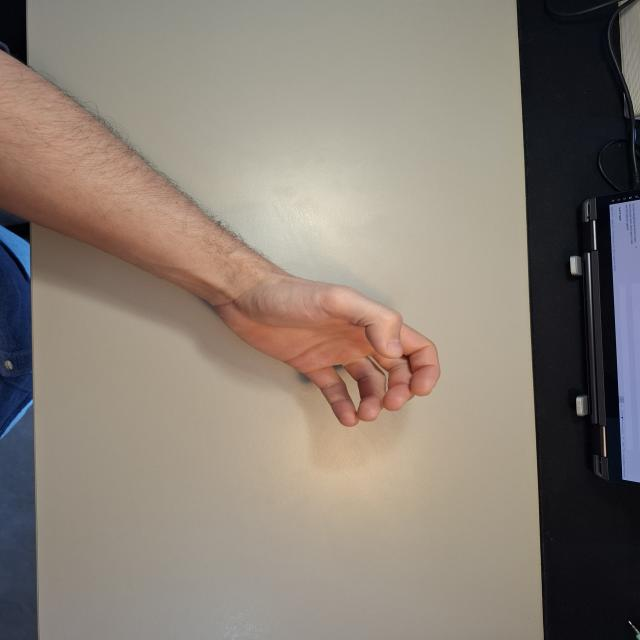glove_off: (215, 269, 444, 428)
